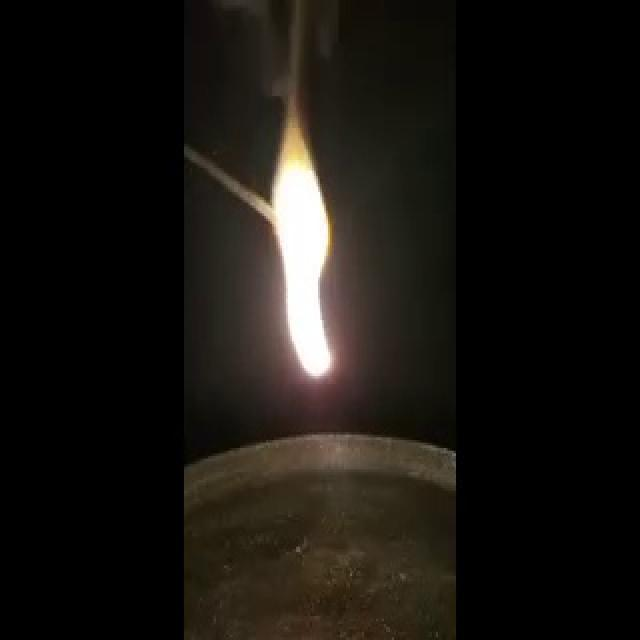Fire: (261, 70, 343, 373)
